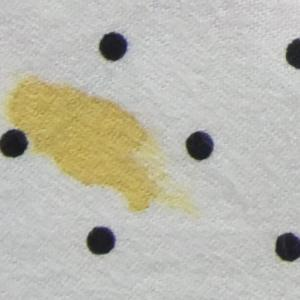Oil Stain: (1, 72, 201, 229)
